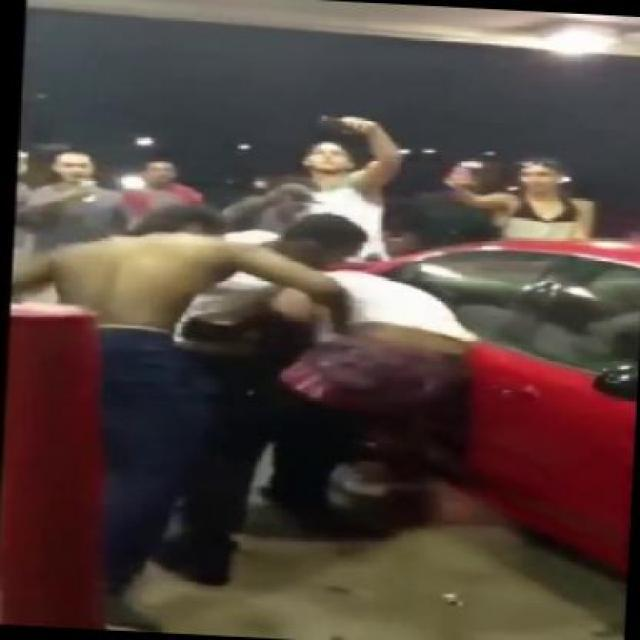fight: (29, 194, 483, 473)
